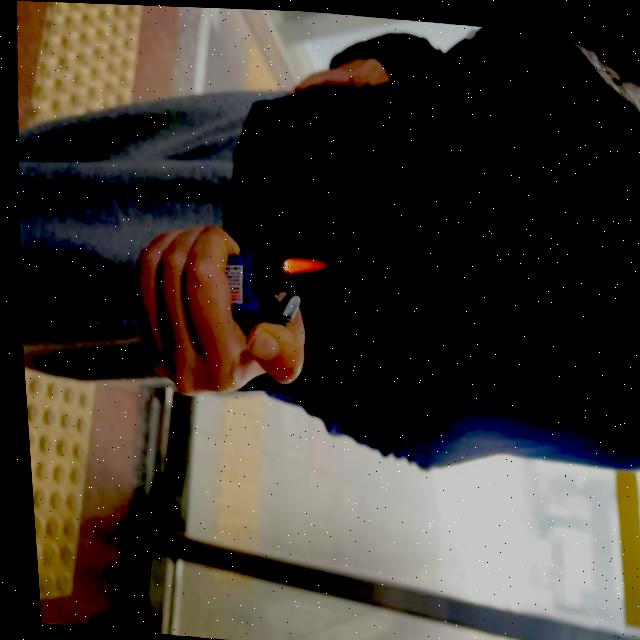Fire: (283, 251, 325, 279)
